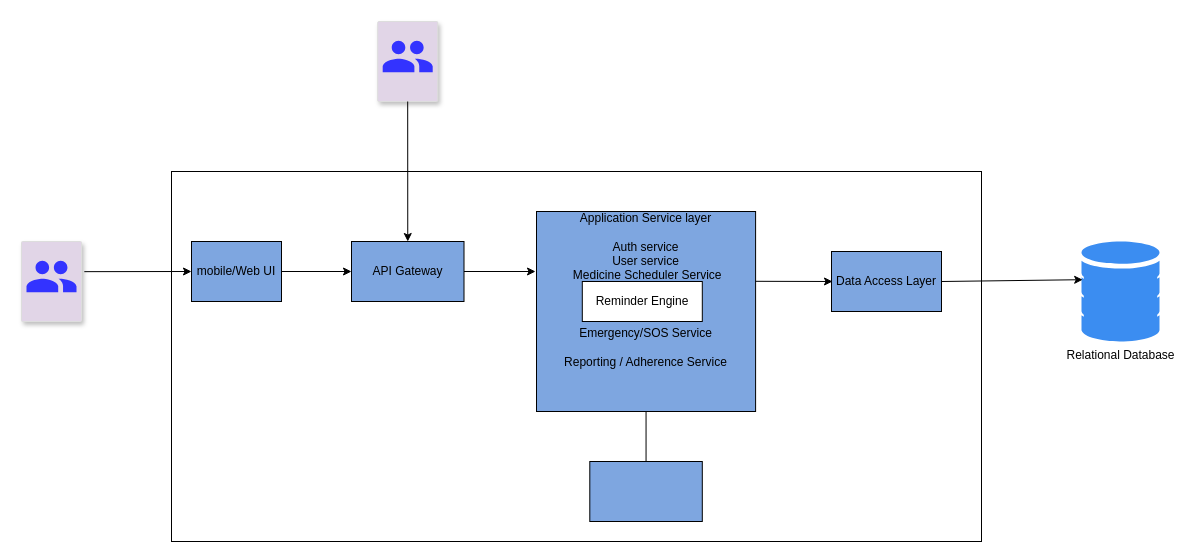
Image size: 1192x559. Some labels were removed from this diagram. Each missing label, with the centre of its shape:
Admin console: the point at 408,62
Notification Service (Push/SMS/Email): the point at 645,491
Users: the point at 52,282
